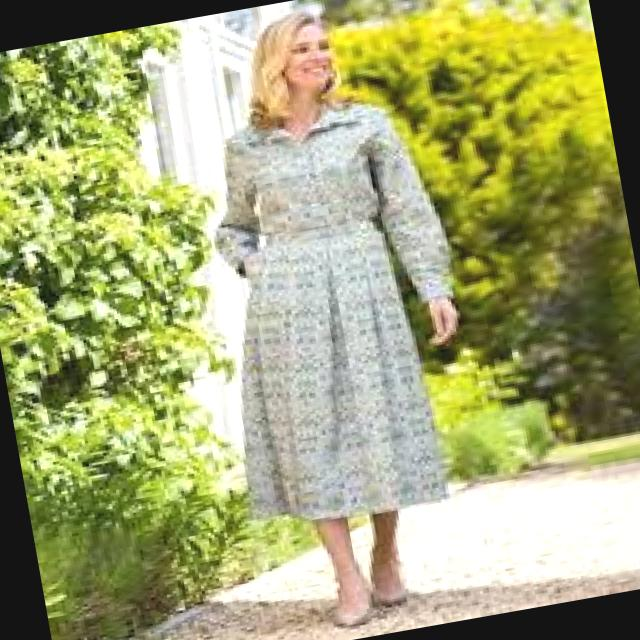dress: (215, 101, 453, 520)
